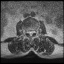CCS_normal: (29, 29, 31, 37)
LFS_normal: (33, 28, 36, 34)
LLS_normal: (31, 29, 33, 36)
RFS_normal: (25, 29, 27, 35)
RLS_normal: (27, 29, 29, 36)
